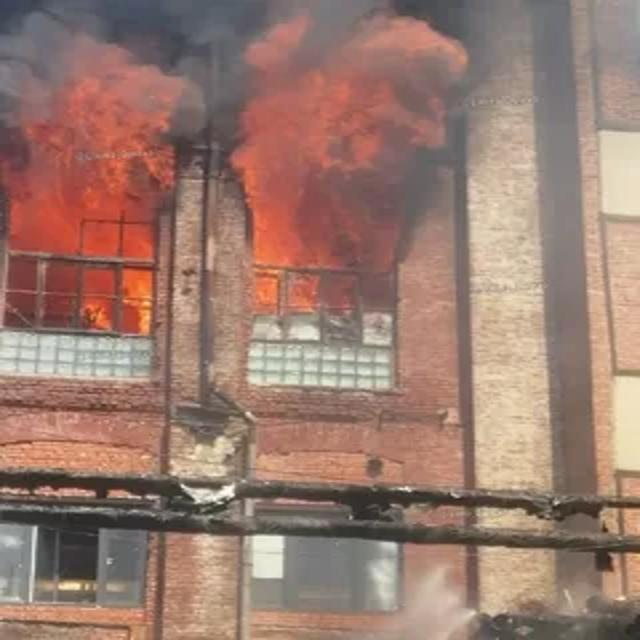Smoke: (226, 0, 474, 179), (1, 0, 213, 146)
